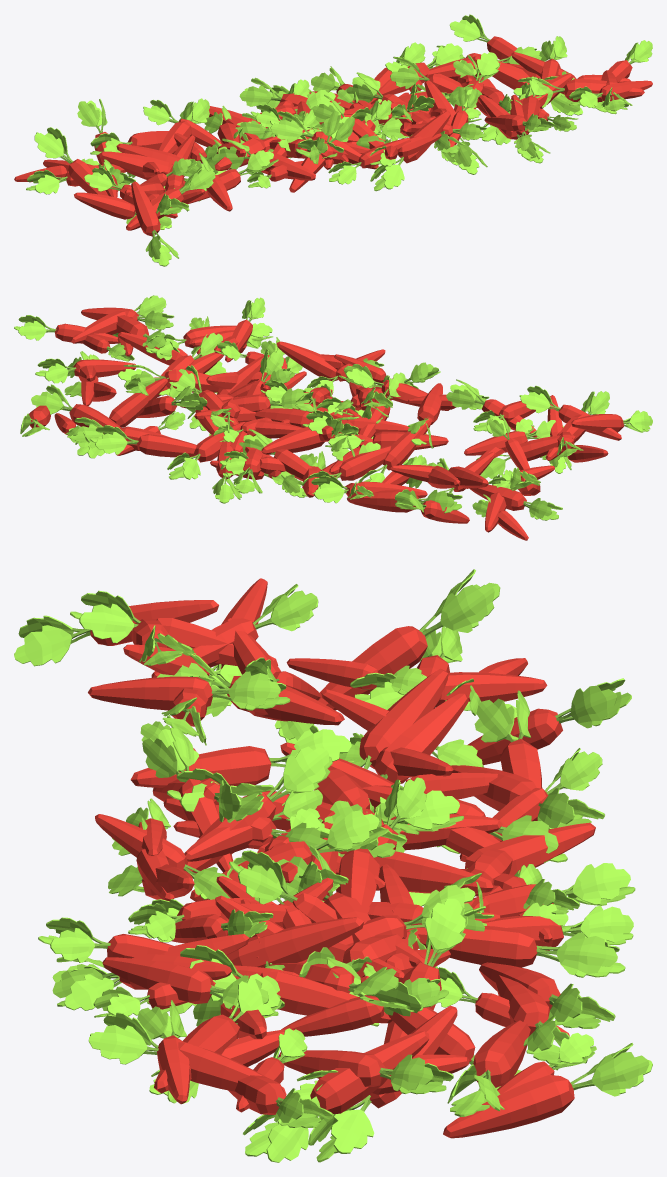
File: carrot.fbx
The picture shows the model from 3 angles, top to bottom: view 1: azimuth 30°, elevation 25°; view 2: azimuth 150°, elevation 25°; view 3: azimuth 270°, elevation 25°; orthographic projection. The views are drawn at different scales.
Visible parts, largest first — view 1: carrot.021; view 2: carrot.021; view 3: carrot.021.
Part boxes in pixels (x1,y1,x2,y2): carrot.021: (14,14,652,266); carrot.021: (14,295,652,540); carrot.021: (14,569,652,1162).
Bounding box in the file's own units: 1392 × 191 × 701.
